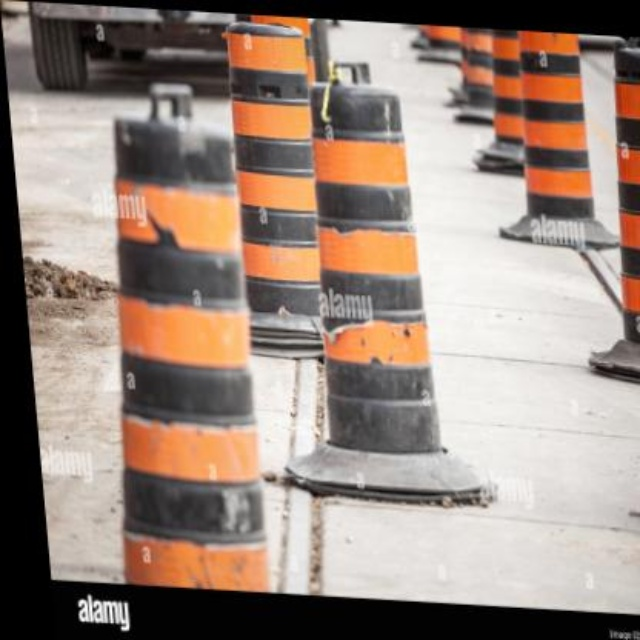obstacle: (85, 97, 265, 593), (298, 64, 439, 453), (217, 37, 320, 360)
